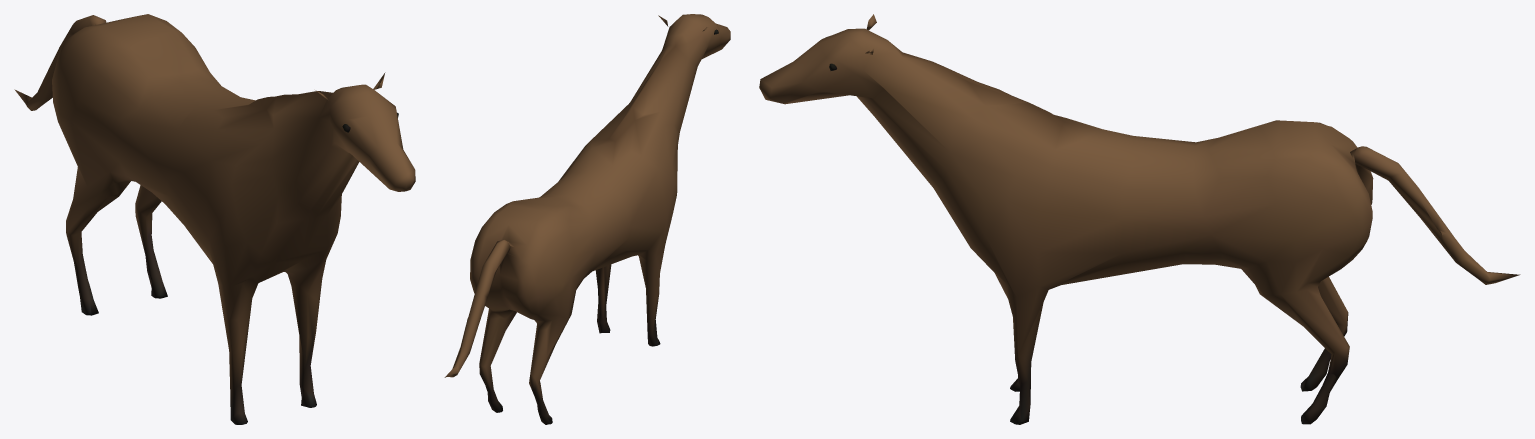
Rendered from pferd.glb.
3 views of the same model, side by side, from view 1: azimuth 30°, elevation 25°; view 2: azimuth 150°, elevation 25°; view 3: azimuth 270°, elevation 25° (orthographic). The views are drawn at different scales.
Visible parts, largest first — view 1: lack; view 2: lack; view 3: lack.
Boxes of the visible parts, left/top/right/bottom form: lack: left=14, top=14, right=415, bottom=424; lack: left=444, top=14, right=730, bottom=424; lack: left=759, top=14, right=1520, bottom=424.
Bounding box in the file's own units: 0.7226 × 2.19 × 4.01.
